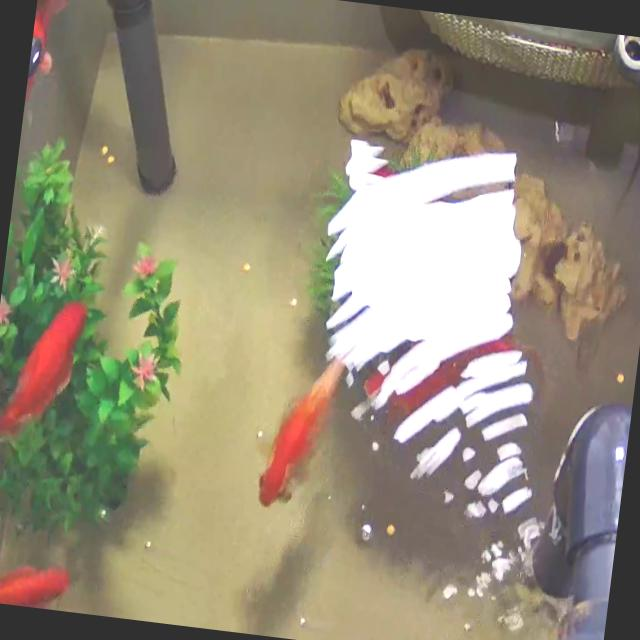fish: (0, 284, 127, 467), (250, 321, 356, 537), (17, 0, 72, 169), (0, 538, 87, 612)
